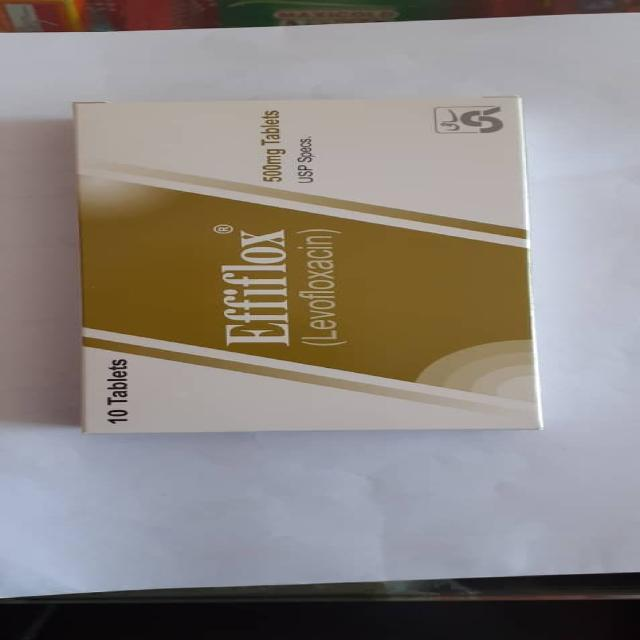drug-name: (212, 224, 293, 348)
